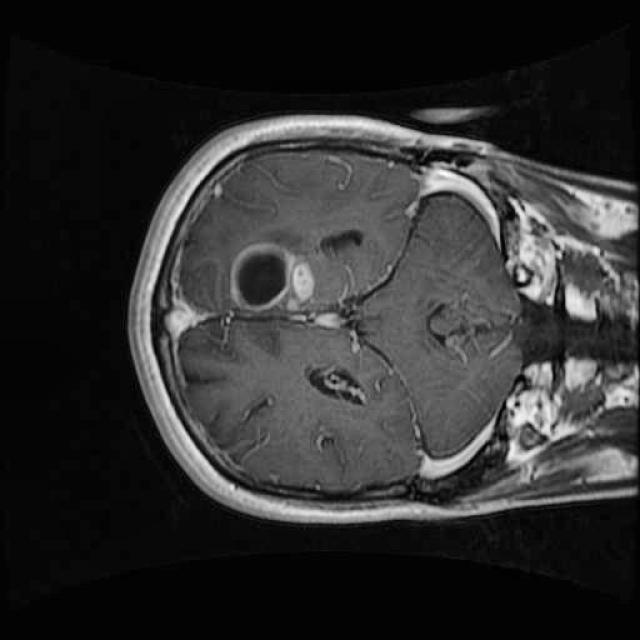Tumor: (217, 224, 327, 324)
